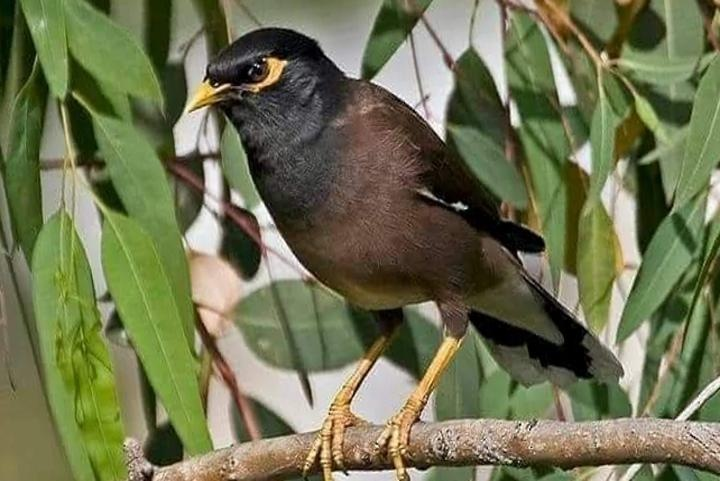myna: (189, 24, 598, 404)
